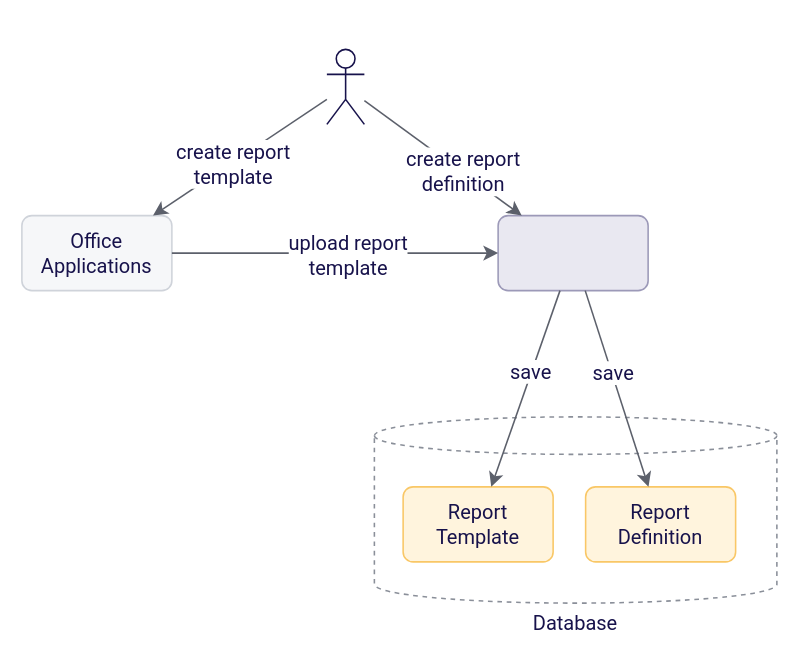
The diagram is 800 pixels wide and 658 high, and some of its shapes have lost their labels. Here are the shapes that lost their labels. From the top down, the centre of each, then its label:
At [345,86]: "User".
At [572,252]: "Reports Admin UI".
